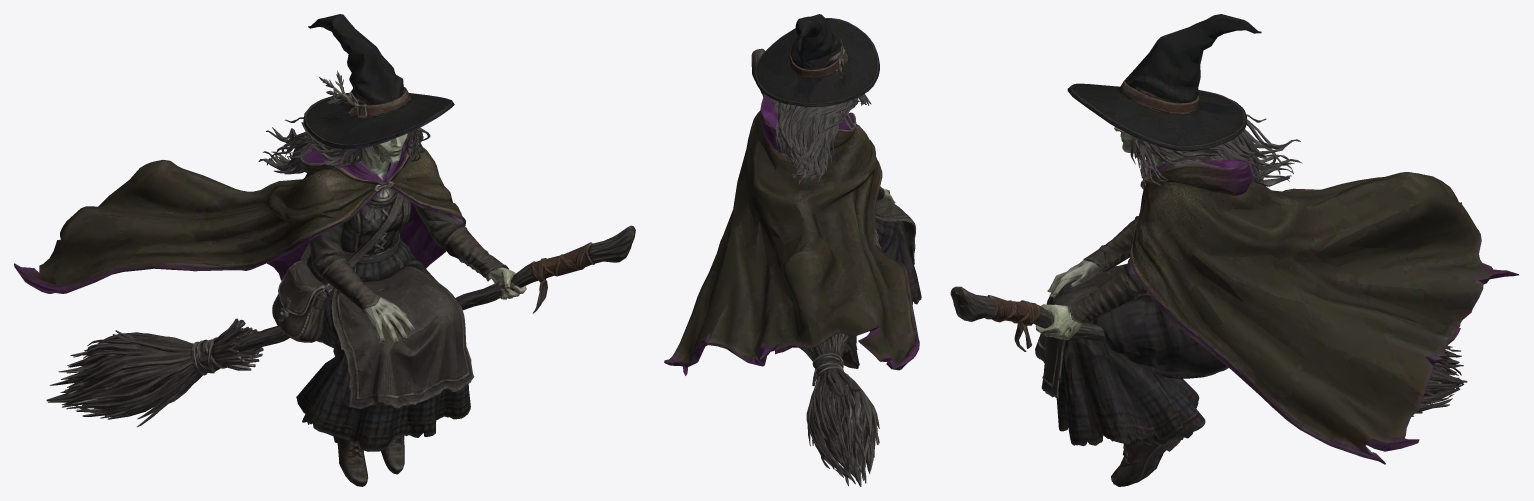
File: restless-bishop.glb
The picture shows the model from 3 angles, left to right: view 1: azimuth 30°, elevation 25°; view 2: azimuth 150°, elevation 25°; view 3: azimuth 270°, elevation 25°; orthographic projection. The views are drawn at different scales.
Visible parts, largest first — view 1: output_unwrapped; view 2: output_unwrapped; view 3: output_unwrapped.
Part boxes in pixels (x1,y1,x2,y2): output_unwrapped: [14, 14, 635, 486]; output_unwrapped: [664, 14, 921, 486]; output_unwrapped: [950, 14, 1518, 486].
Size of the model in its own units: 1.67 by 1.76 by 1.9.
1 material, 1 textured.
